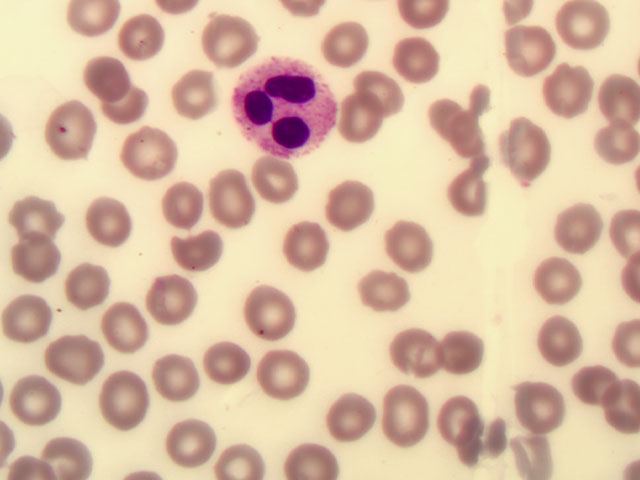RBC: (119, 16, 165, 62), (85, 49, 131, 95), (104, 82, 150, 128), (52, 105, 98, 151), (123, 124, 169, 170), (158, 179, 204, 225), (205, 187, 251, 233), (195, 156, 241, 202), (255, 158, 301, 204), (175, 73, 221, 119), (205, 21, 251, 67), (320, 19, 366, 65), (358, 68, 404, 114), (340, 99, 386, 145), (397, 39, 443, 85), (418, 93, 464, 139), (440, 109, 486, 155), (444, 174, 490, 220), (509, 125, 555, 171), (545, 69, 591, 115), (506, 29, 552, 75), (594, 80, 640, 126), (594, 123, 640, 169), (557, 205, 603, 251), (536, 257, 582, 303), (537, 319, 583, 365), (435, 330, 481, 376), (390, 331, 436, 377), (365, 268, 411, 314), (387, 224, 433, 270), (328, 182, 374, 228), (286, 230, 332, 276), (247, 287, 293, 333), (257, 349, 303, 395), (199, 344, 245, 390), (150, 354, 196, 400), (154, 274, 200, 320), (175, 225, 221, 271), (103, 377, 149, 423), (47, 332, 93, 378), (102, 306, 148, 352), (65, 267, 111, 313), (91, 199, 137, 245), (18, 236, 64, 282), (16, 197, 62, 243), (6, 296, 52, 342), (15, 383, 61, 429), (43, 434, 89, 480), (169, 420, 215, 466), (212, 434, 258, 480), (284, 434, 330, 480), (328, 394, 374, 440), (383, 390, 429, 436), (433, 397, 479, 443), (517, 387, 563, 433), (563, 365, 609, 411), (594, 381, 640, 427), (564, 1, 610, 46), (398, 1, 452, 32)
WBC: (239, 58, 337, 158)
